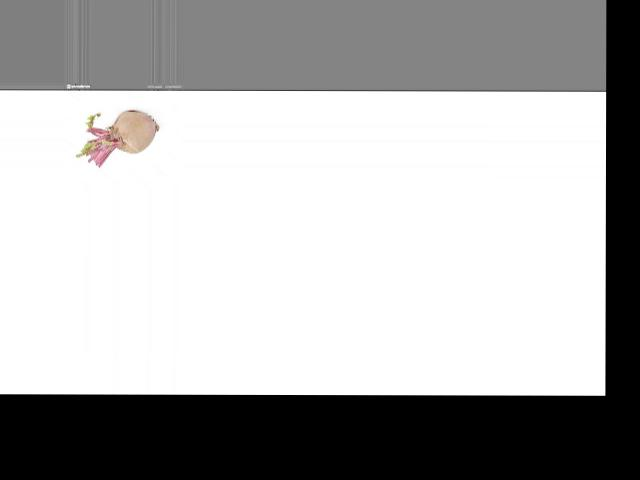beet: (76, 109, 160, 167)
